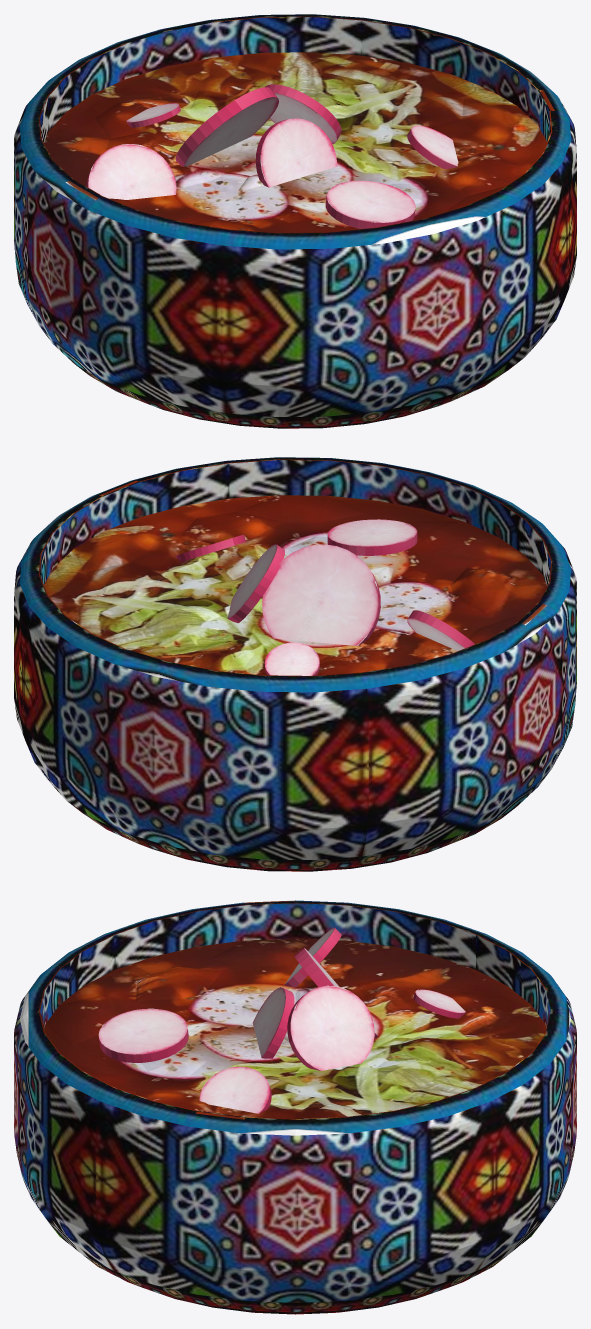
Rendered from pozole.obj.
The picture shows the model from 3 angles, top to bottom: view 1: azimuth 30°, elevation 25°; view 2: azimuth 150°, elevation 25°; view 3: azimuth 270°, elevation 25°; orthographic projection.
Parts seen in each view (by area): view 1: Tazon_Circle, Circle.007_Circle.008, Circle.003_Circle.004, Circle.006_Circle.007, Circle.004_Circle.005, Circle_Circle.001, Circle.002_Circle.003, Circle.005_Circle.006; view 2: Tazon_Circle, Circle.006_Circle.007, Circle.004_Circle.005, Circle_Circle.001, Circle.005_Circle.006, Circle.003_Circle.004, Circle.002_Circle.003; view 3: Tazon_Circle, Circle_Circle.001, Circle.004_Circle.005, Circle.002_Circle.003, Circle.007_Circle.008, Circle.005_Circle.006, Circle.003_Circle.004, Circle.006_Circle.007.
Boxes of the visible parts, x1=… form: Tazon_Circle: x1=14, y1=14, x2=576, y2=428; Circle.007_Circle.008: x1=255, y1=118, x2=337, y2=187; Circle.003_Circle.004: x1=86, y1=144, x2=176, y2=199; Circle.006_Circle.007: x1=175, y1=87, x2=278, y2=166; Circle.004_Circle.005: x1=325, y1=180, x2=415, y2=228; Circle_Circle.001: x1=265, y1=84, x2=341, y2=144; Circle.002_Circle.003: x1=407, y1=125, x2=458, y2=168; Circle.005_Circle.006: x1=126, y1=103, x2=180, y2=127; Tazon_Circle: x1=14, y1=457, x2=576, y2=871; Circle.006_Circle.007: x1=262, y1=544, x2=380, y2=645; Circle.004_Circle.005: x1=327, y1=519, x2=417, y2=555; Circle_Circle.001: x1=227, y1=544, x2=284, y2=623; Circle.005_Circle.006: x1=264, y1=642, x2=319, y2=675; Circle.003_Circle.004: x1=407, y1=610, x2=474, y2=650; Circle.002_Circle.003: x1=175, y1=534, x2=245, y2=561; Tazon_Circle: x1=14, y1=900, x2=576, y2=1314; Circle_Circle.001: x1=287, y1=985, x2=374, y2=1070; Circle.004_Circle.005: x1=98, y1=1008, x2=188, y2=1062; Circle.002_Circle.003: x1=199, y1=1066, x2=271, y2=1113; Circle.007_Circle.008: x1=252, y1=987, x2=294, y2=1058; Circle.005_Circle.006: x1=413, y1=989, x2=465, y2=1018; Circle.003_Circle.004: x1=284, y1=927, x2=341, y2=987; Circle.006_Circle.007: x1=294, y1=948, x2=378, y2=1038.
Size of the model in its own units: 8.99 by 5.07 by 8.99.
